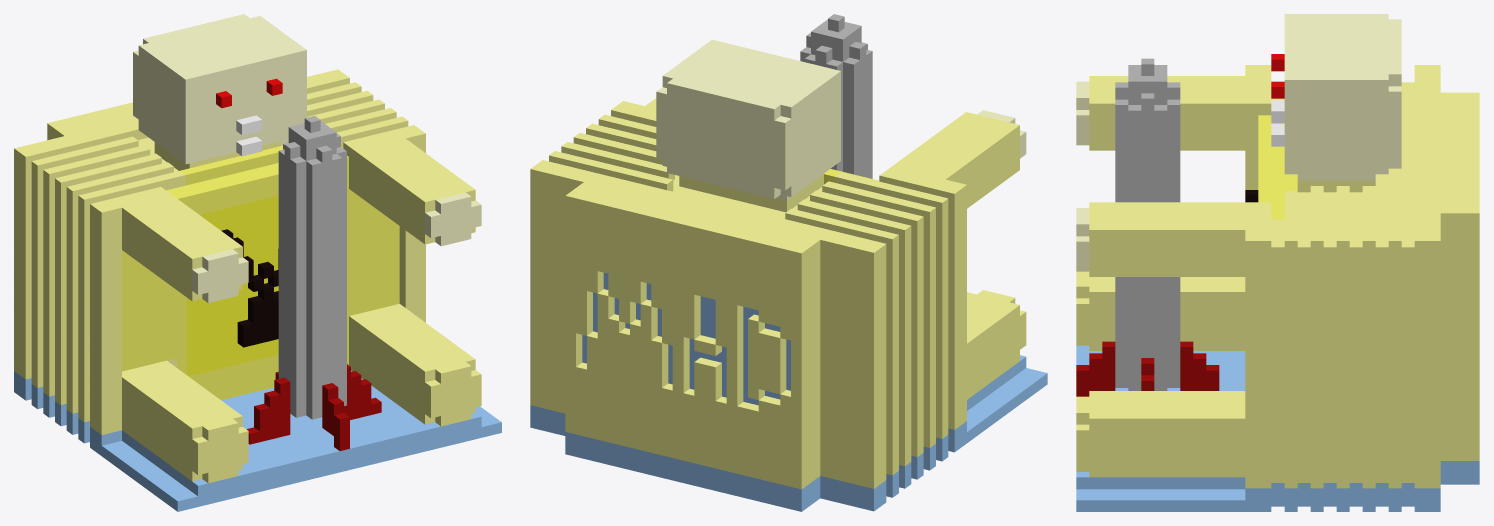
File: mad.obj
3 renders of one model, left to right at view 1: azimuth 30°, elevation 25°; view 2: azimuth 150°, elevation 25°; view 3: azimuth 270°, elevation 25°, orthographic. The views are drawn at different scales.
Bounding box in the file's own units: 3.2 × 3.2 × 3.1.
Materials: 1 (1 with a texture image).
